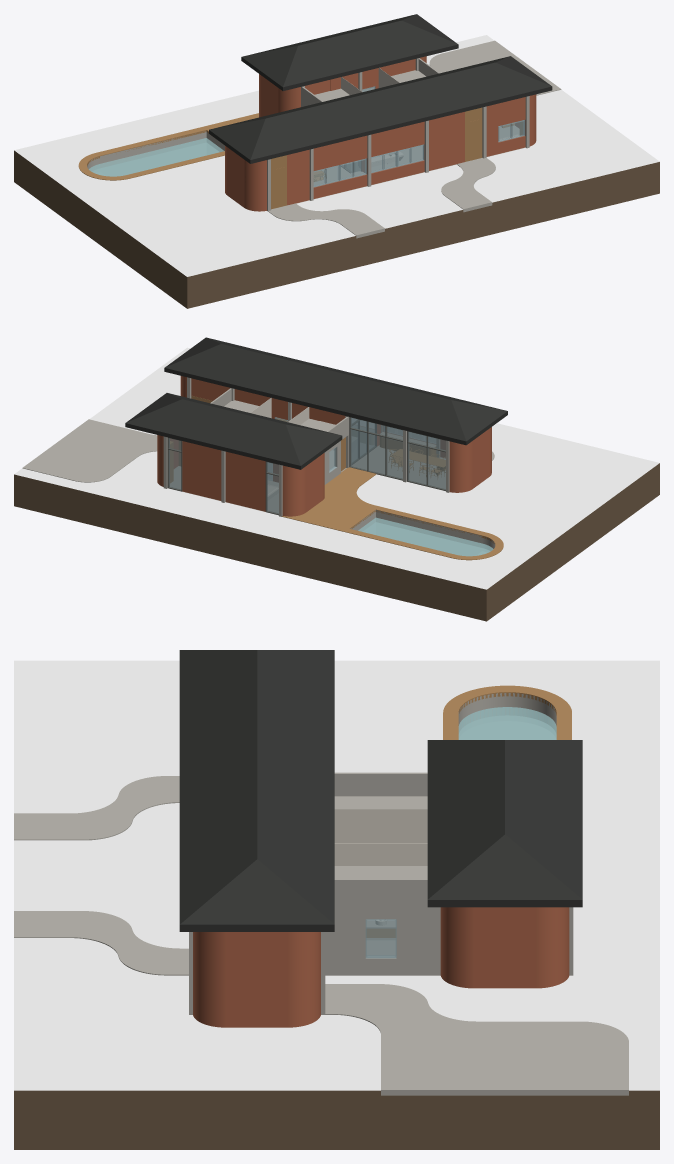
The model's file is orbita.glb.
The picture shows the model from 3 angles, top to bottom: view 1: azimuth 30°, elevation 25°; view 2: azimuth 150°, elevation 25°; view 3: azimuth 270°, elevation 25°; orthographic projection. The views are drawn at different scales.
Visible parts, largest first — view 1: grass, roof, earth, brick, concrete, wood, glass, water, interior; view 2: grass, roof, earth, concrete, brick, wood, glass, water, metal, interior; view 3: grass, roof, concrete, earth, brick, interior, water, wood, glass.
Boxes of the visible parts, x1,y1,x2,y2 form: grass: [14, 35, 659, 276]; roof: [209, 14, 552, 163]; earth: [14, 150, 659, 308]; brick: [225, 56, 536, 211]; concrete: [87, 40, 561, 238]; wood: [78, 107, 522, 209]; glass: [313, 86, 525, 187]; water: [89, 138, 224, 176]; interior: [341, 68, 519, 166]; grass: [14, 347, 659, 589]; roof: [125, 337, 507, 469]; earth: [14, 463, 659, 621]; concrete: [22, 377, 495, 549]; brick: [157, 376, 491, 516]; wood: [170, 395, 503, 560]; glass: [169, 417, 445, 513]; water: [358, 517, 493, 556]; metal: [167, 417, 445, 515]; interior: [251, 398, 333, 499]; grass: [14, 660, 659, 1090]; roof: [179, 650, 582, 931]; concrete: [14, 693, 628, 1095]; earth: [14, 1090, 659, 1149]; brick: [193, 907, 569, 1027]; interior: [334, 809, 427, 939]; water: [458, 707, 556, 739]; wood: [366, 685, 571, 937]; glass: [365, 919, 396, 958].
Bounding box in the file's own units: 32.85 × 7.14 × 20.85.
